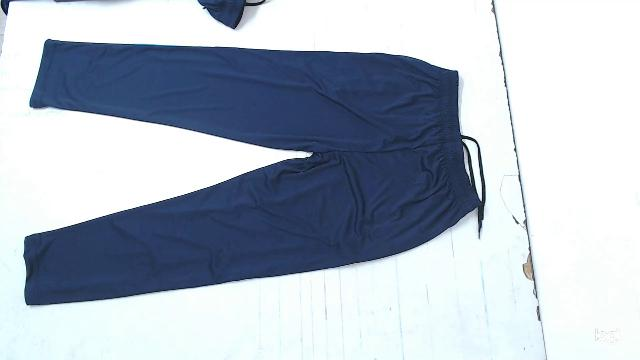new-garment: (25, 39, 484, 304)
